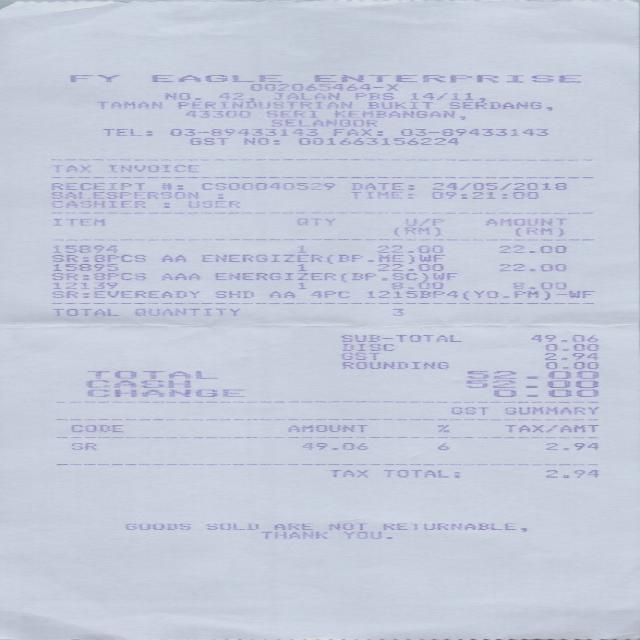text: (214, 272, 457, 282), (200, 254, 442, 263), (313, 74, 580, 82), (365, 290, 592, 299), (382, 522, 526, 532), (296, 137, 457, 145), (175, 101, 351, 108), (398, 128, 547, 136), (248, 83, 396, 91), (168, 128, 316, 136), (50, 290, 196, 298), (85, 389, 242, 396), (430, 182, 564, 190), (464, 370, 598, 378), (148, 74, 280, 82), (200, 182, 332, 190), (86, 370, 216, 378), (50, 191, 197, 198), (332, 109, 454, 117), (339, 334, 460, 342), (464, 380, 598, 387), (269, 118, 376, 126), (502, 424, 598, 432), (50, 182, 145, 190), (430, 191, 538, 198), (51, 254, 145, 262), (51, 272, 145, 280), (341, 361, 448, 368), (492, 389, 598, 396), (104, 164, 196, 172), (84, 380, 189, 387), (502, 407, 598, 414), (446, 101, 540, 108), (51, 200, 144, 207), (285, 424, 365, 432), (132, 308, 238, 314), (382, 470, 459, 478), (484, 218, 565, 225), (496, 263, 566, 271), (497, 245, 566, 253), (375, 263, 443, 271), (51, 263, 118, 271), (50, 281, 117, 289), (529, 334, 596, 342), (123, 522, 189, 530), (184, 109, 249, 117), (50, 245, 115, 253), (390, 226, 440, 236), (349, 182, 411, 190), (349, 190, 411, 198), (364, 101, 433, 108), (270, 92, 338, 99), (49, 308, 116, 315), (94, 101, 160, 108), (261, 531, 327, 538), (377, 245, 442, 252), (301, 442, 366, 449), (407, 92, 470, 99), (68, 424, 122, 432), (340, 343, 393, 351), (543, 343, 596, 351), (265, 109, 317, 117), (100, 128, 152, 136), (544, 361, 596, 369), (544, 442, 596, 450), (544, 469, 596, 477), (331, 128, 382, 136), (186, 199, 237, 207), (68, 74, 118, 82), (510, 282, 565, 289), (50, 218, 104, 225), (543, 352, 597, 359), (204, 522, 257, 529), (526, 226, 562, 236), (49, 164, 91, 172), (342, 531, 390, 538), (307, 290, 348, 298), (351, 91, 391, 99), (187, 136, 227, 144), (159, 272, 199, 280), (328, 469, 368, 477), (272, 522, 312, 530), (389, 282, 442, 288), (326, 522, 364, 530), (242, 136, 279, 144), (215, 290, 252, 298), (162, 91, 198, 99), (294, 218, 334, 225), (339, 352, 378, 359), (404, 218, 442, 225), (448, 407, 485, 414), (160, 253, 186, 261), (268, 290, 294, 298), (70, 442, 95, 450), (158, 182, 181, 190), (216, 92, 242, 99), (294, 263, 306, 271), (435, 424, 447, 432), (391, 307, 402, 315), (294, 245, 304, 253), (294, 282, 306, 288), (436, 443, 448, 449)
